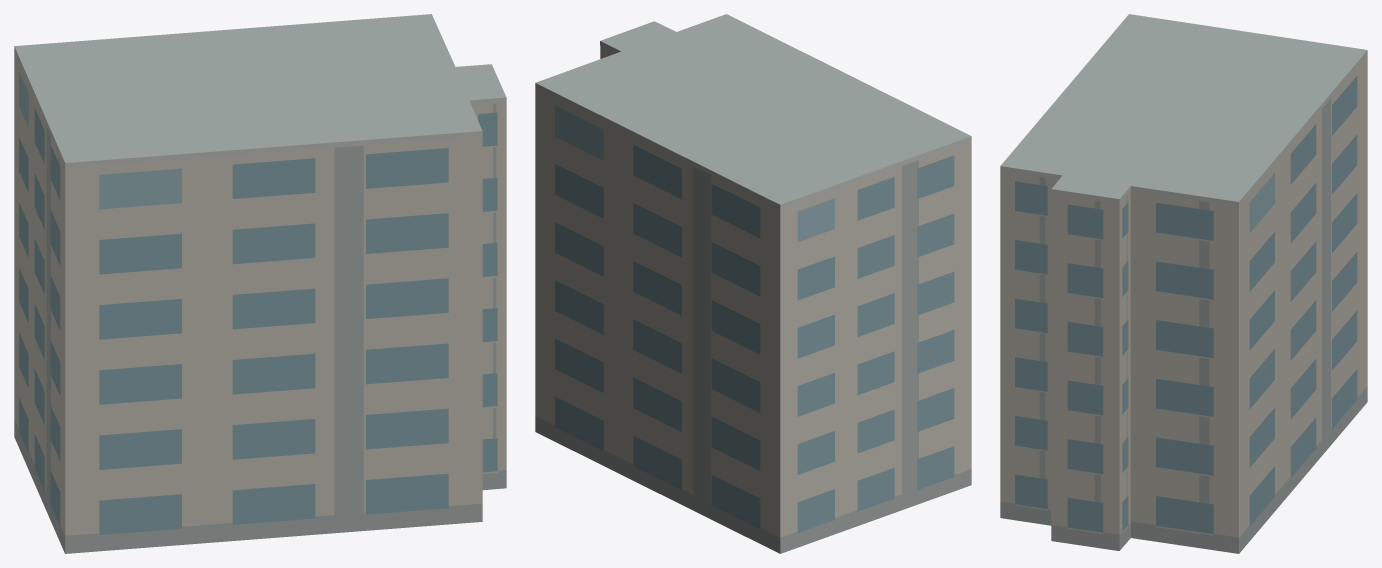
The model's file is survey-upis-32894353.glb.
The picture shows the model from 3 angles, left to right: view 1: azimuth 30°, elevation 25°; view 2: azimuth 150°, elevation 25°; view 3: azimuth 270°, elevation 25°; orthographic projection. The views are drawn at different scales.
Parts seen in each view (by area): view 1: survey-upis-32894353.tmp; view 2: survey-upis-32894353.tmp; view 3: survey-upis-32894353.tmp.
Boxes of the visible parts, x1=… form: survey-upis-32894353.tmp: x1=14, y1=14, x2=506, y2=553; survey-upis-32894353.tmp: x1=535, y1=14, x2=971, y2=553; survey-upis-32894353.tmp: x1=1000, y1=14, x2=1367, y2=553.
Size of the model in its own units: 19.71 by 17.2 by 16.28.
